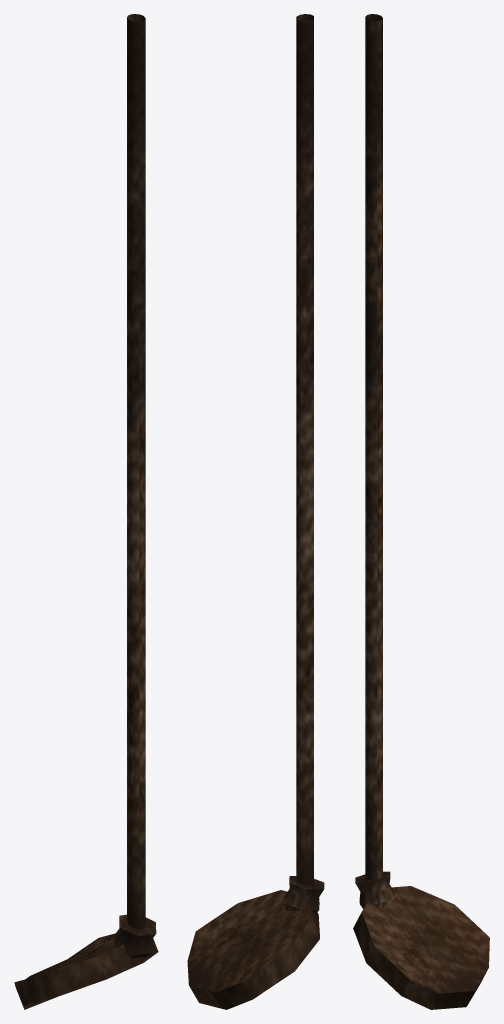
Rendered from SM_DollHang_rope.fbx.
3 views of the same model, side by side, from view 1: azimuth 90°, elevation 25°; view 2: azimuth 150°, elevation 25°; view 3: azimuth 270°, elevation 25° (orthographic). The views are drawn at different scales.
Parts seen in each view (by area): view 1: SM_DollHang_rope; view 2: SM_DollHang_rope; view 3: SM_DollHang_rope.
Boxes of the visible parts, <box> form: SM_DollHang_rope: <box>14,14,158,1009</box>; SM_DollHang_rope: <box>187,14,324,1009</box>; SM_DollHang_rope: <box>353,14,489,1009</box>.
Bounding box in the file's own units: 6.32 × 6.24 × 48.35.
1 material, 1 textured.
